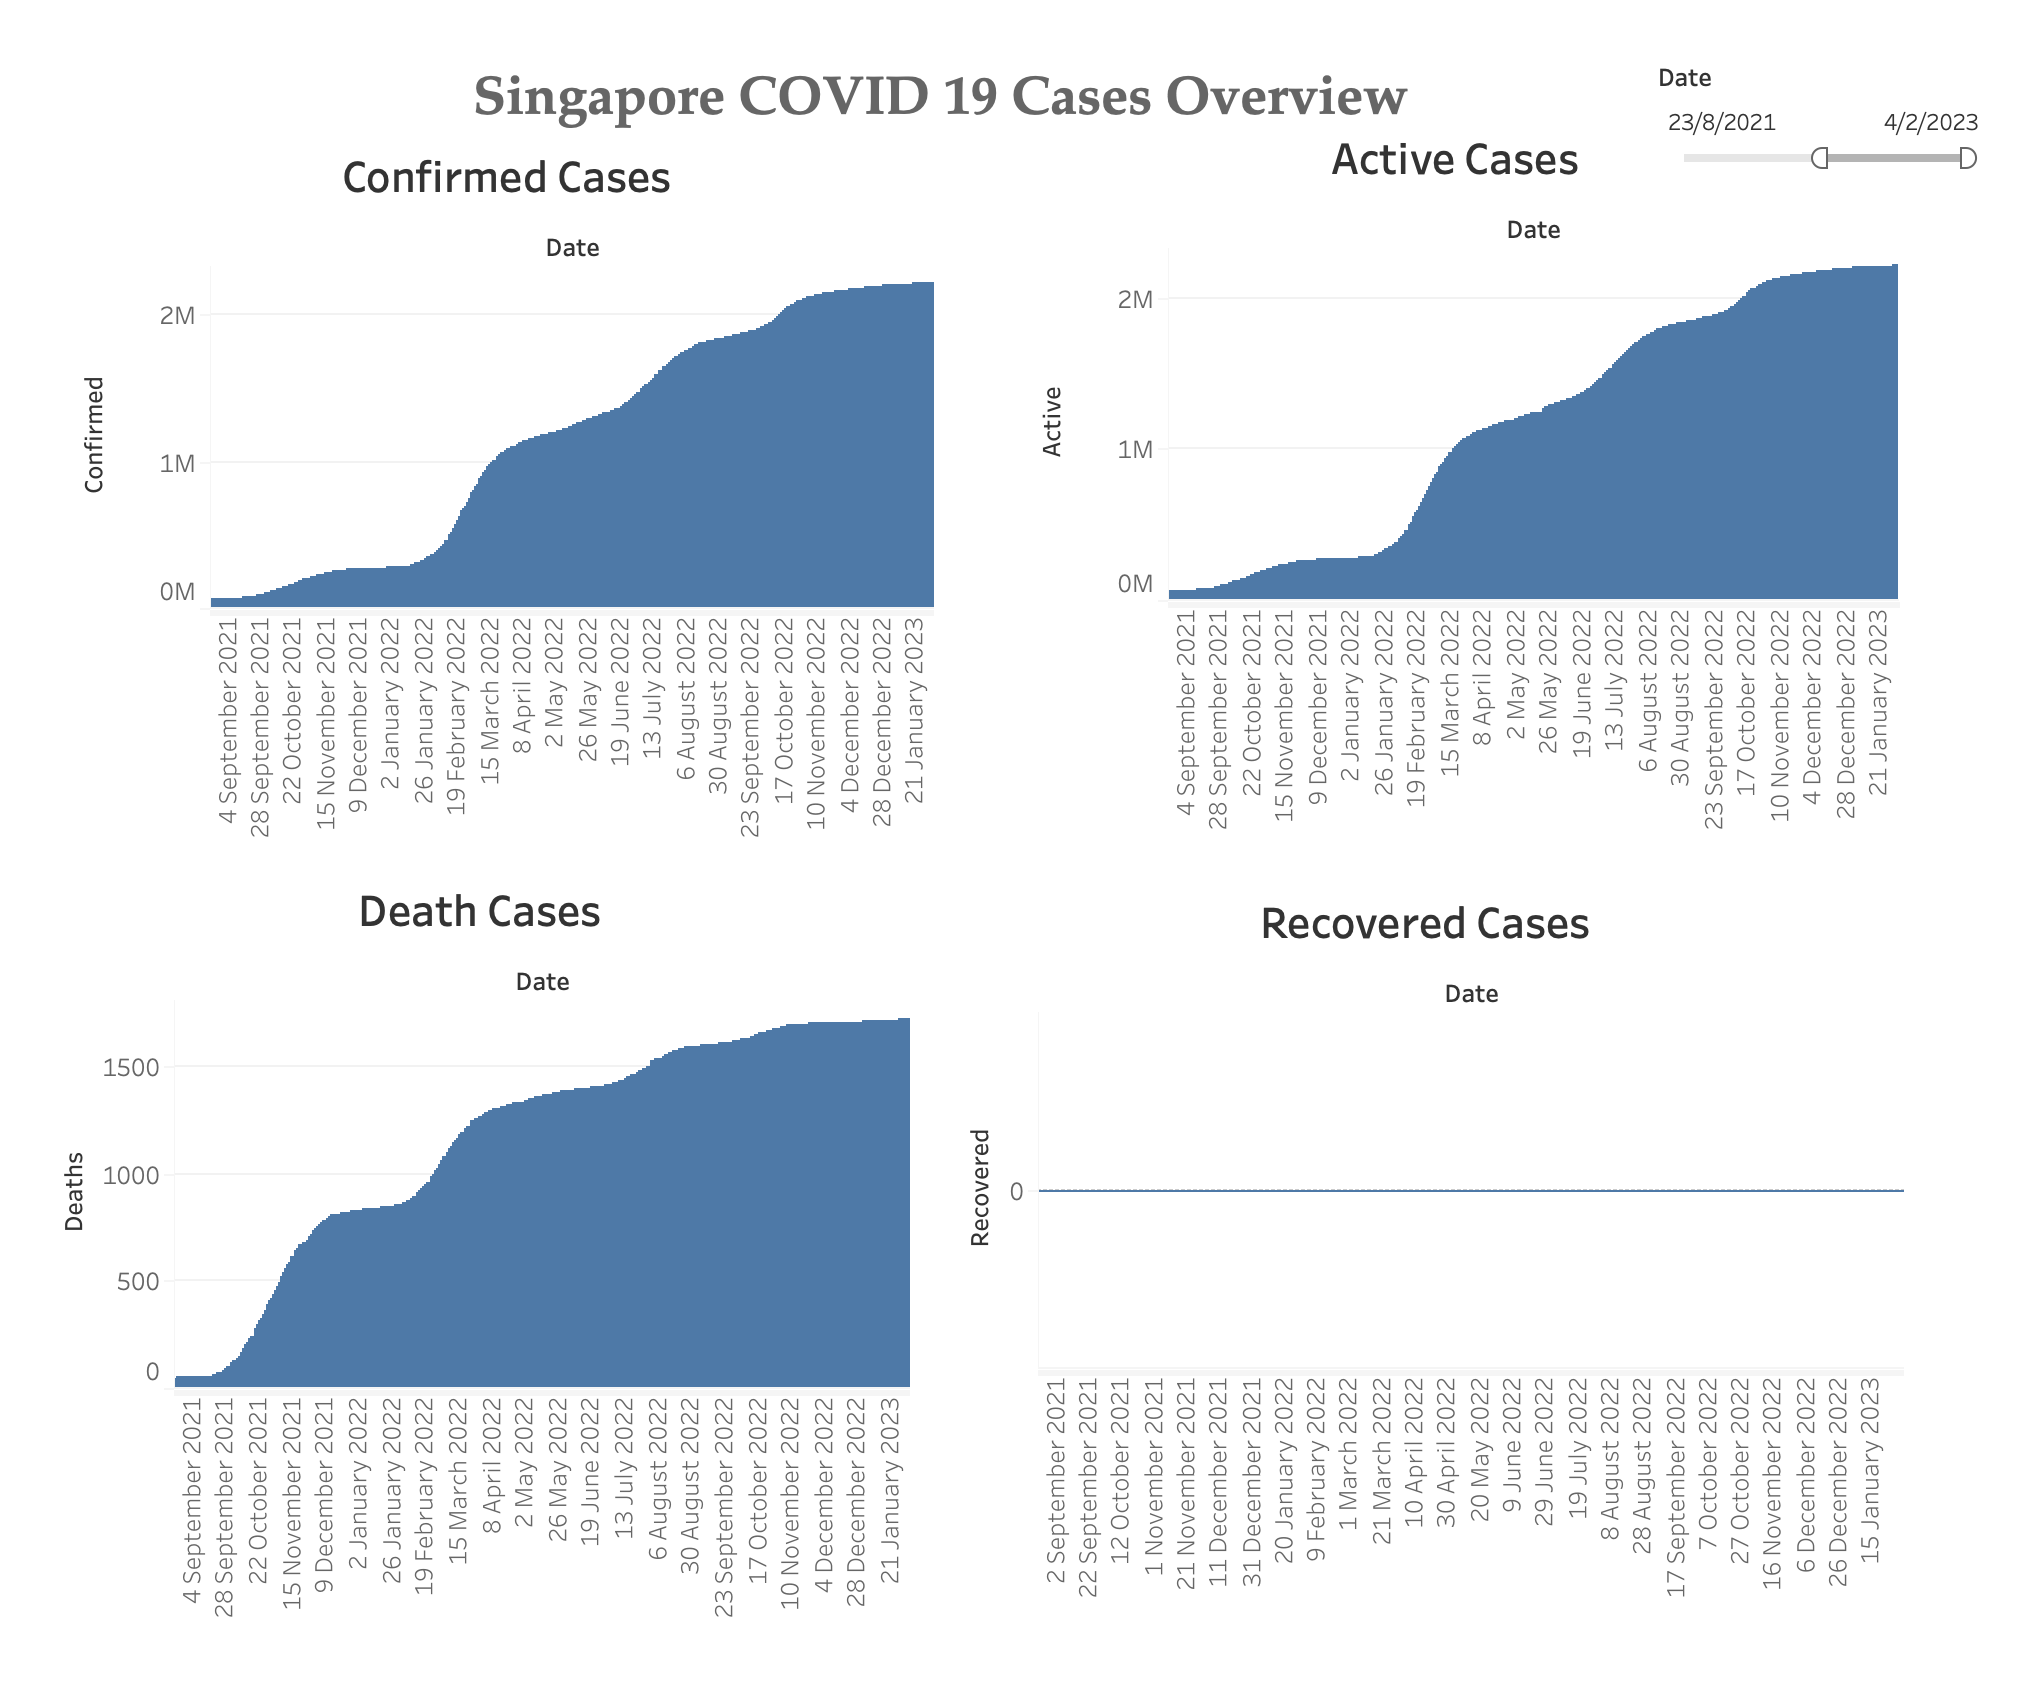

This screenshot's page, from the dashboard's own definition file:
{"tool":"tableau","page":{"name":"case_overview","canvas":[1000,800],"ordinal":0},"visuals":[{"type":"filter","title":"Recovered_Cases","param":"[federated.0cixfmq0oy3jx11a1amip0ruvluj].[none:Date:qk]","box":[820,10,168,69]},{"type":"text","box":[130,16,663,28]},{"type":"worksheet","title":"Active_Cases ","mark":"Bar","rows":["Active"],"cols":["Date"],"box":[501,40,440,360]},{"type":"worksheet","title":"Confirmed_Cases","mark":"Bar","rows":["Confirmed"],"cols":["Date"],"box":[22,49,436,355]},{"type":"worksheet","title":"Death_Cases","mark":"Bar","rows":["Deaths"],"cols":["Date"],"box":[12,416,434,378]},{"type":"worksheet","title":"Recovered_Cases","mark":"Bar","rows":["Recovered"],"cols":["Date"],"box":[465,422,478,362]}]}

Visuals, with their boxes on the page's 1000x800 design canvas (x1, y1, x2, y2). These are canvas units, not pixel positions in the 2042x1694 screenshot, which may show the page scaled, cropped or inside an application window:
"Recovered_Cases" filter: rect(820, 10, 988, 79)
text: rect(130, 16, 793, 44)
"Active_Cases " worksheet (Bar marks): rect(501, 40, 941, 400)
"Confirmed_Cases" worksheet (Bar marks): rect(22, 49, 458, 404)
"Death_Cases" worksheet (Bar marks): rect(12, 416, 446, 794)
"Recovered_Cases" worksheet (Bar marks): rect(465, 422, 943, 784)
